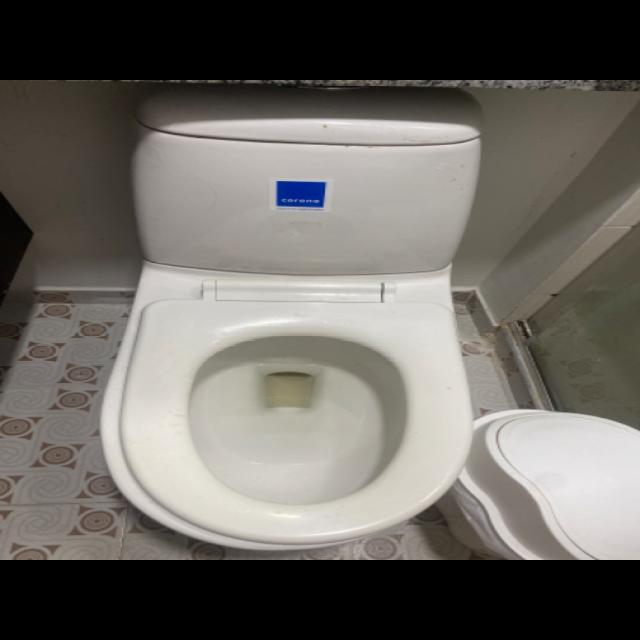toilet: (99, 84, 483, 551)
